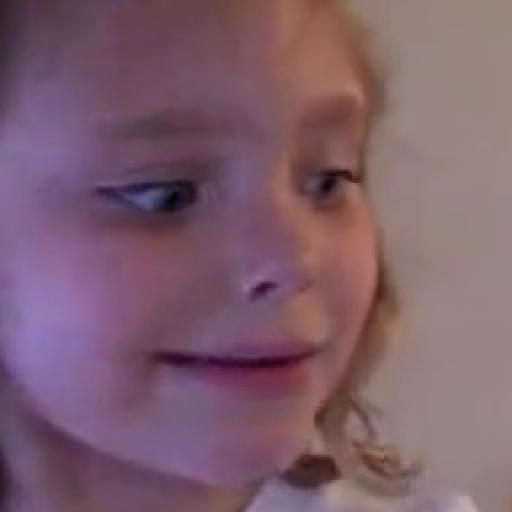Autism: (18, 14, 424, 508)
